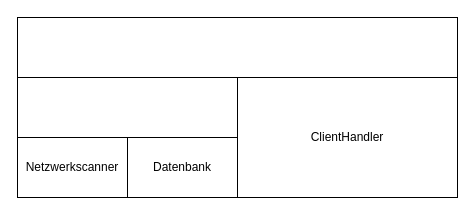
Some shapes in this 475 by 215 pixel diagram are drawn without their labels. Here are the shapes that lost their labels. From the top down, the centre of each, then its label:
the point at 237,47: Server
the point at 127,107: NetSweep
